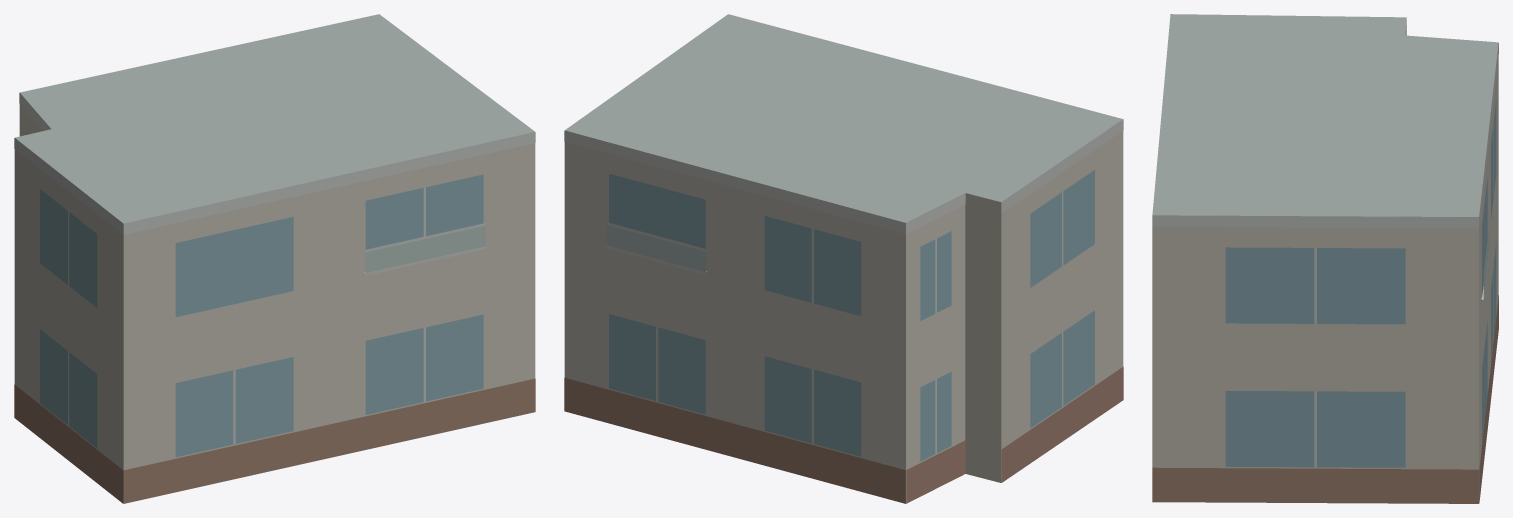
File: survey-upis-32870475.glb
3 views of the same model, side by side, from view 1: azimuth 30°, elevation 25°; view 2: azimuth 150°, elevation 25°; view 3: azimuth 270°, elevation 25° (orthographic). The views are drawn at different scales.
Parts seen in each view (by area): view 1: survey-upis-32870475.tmp; view 2: survey-upis-32870475.tmp; view 3: survey-upis-32870475.tmp.
Boxes of the visible parts, x1,y1,x2,y2 form: survey-upis-32870475.tmp: (14, 14, 535, 503); survey-upis-32870475.tmp: (564, 14, 1123, 503); survey-upis-32870475.tmp: (1152, 14, 1498, 503).
Size of the model in its own units: 9.27 by 6.1 by 6.69.
